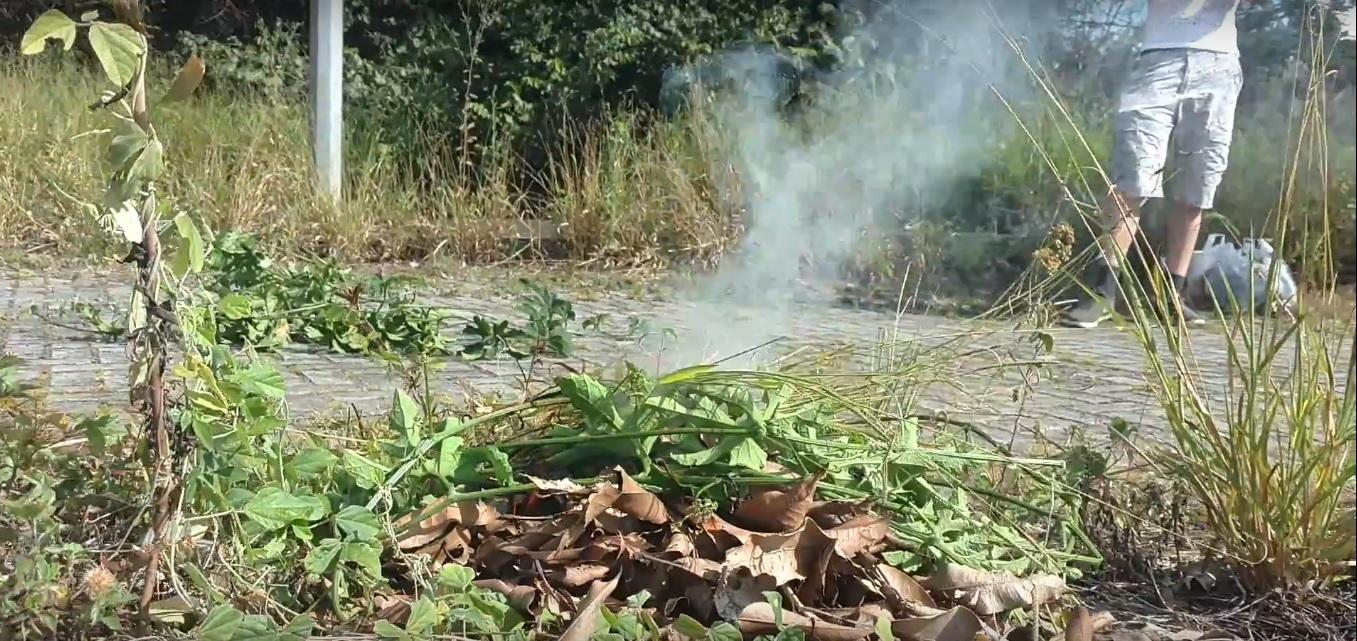smoke: (763, 152, 872, 238), (697, 278, 780, 353)
